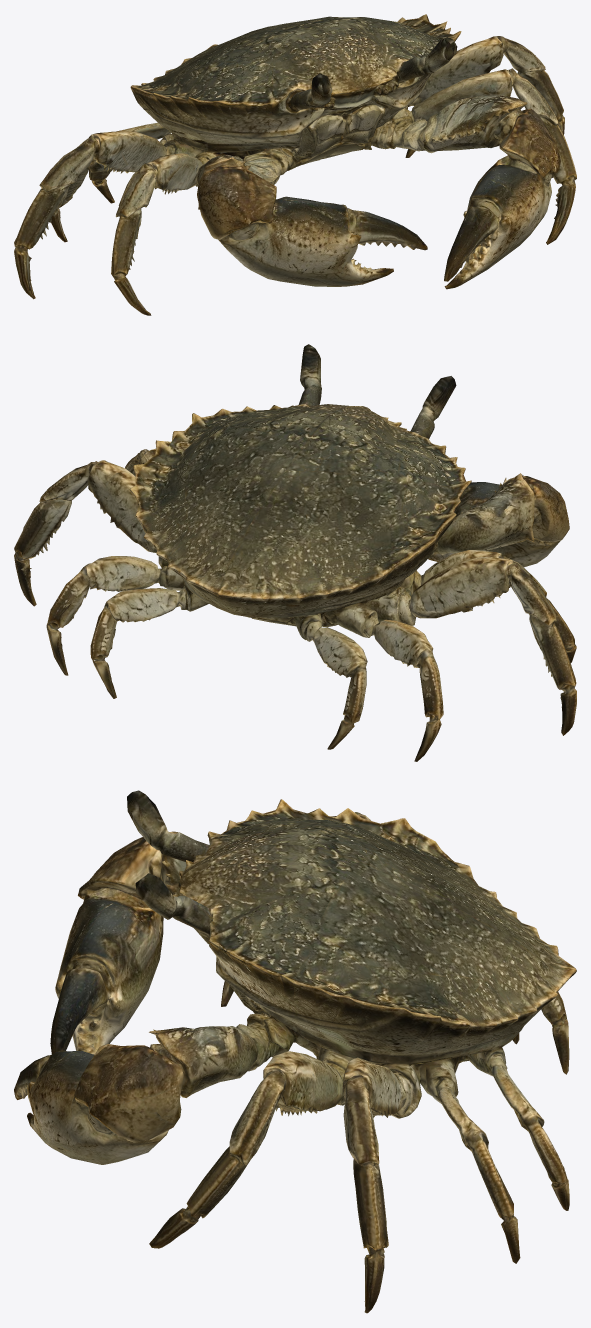
File: giant-crab.glb
3 renders of one model, top to bottom at view 1: azimuth 30°, elevation 25°; view 2: azimuth 150°, elevation 25°; view 3: azimuth 270°, elevation 25°, orthographic. The views are drawn at different scales.
Bounding box in the file's own units: 1.9 × 0.8115 × 1.27.
Materials: 1 (1 with a texture image).
